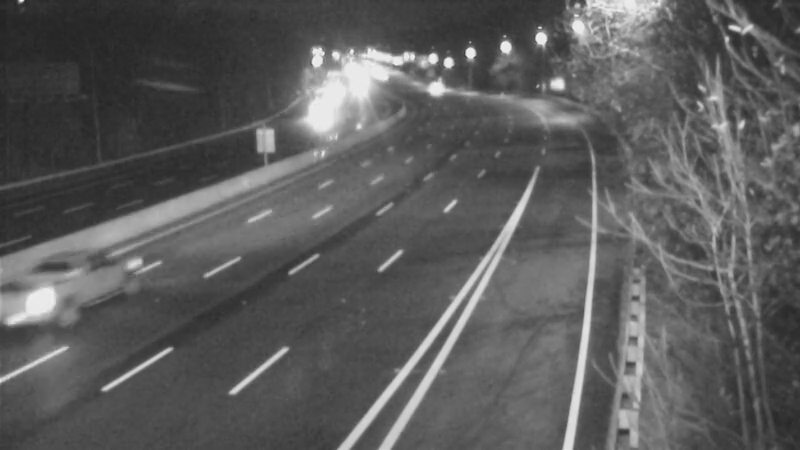vehicle: (14, 257, 94, 337), (410, 63, 460, 113), (292, 94, 342, 144)
